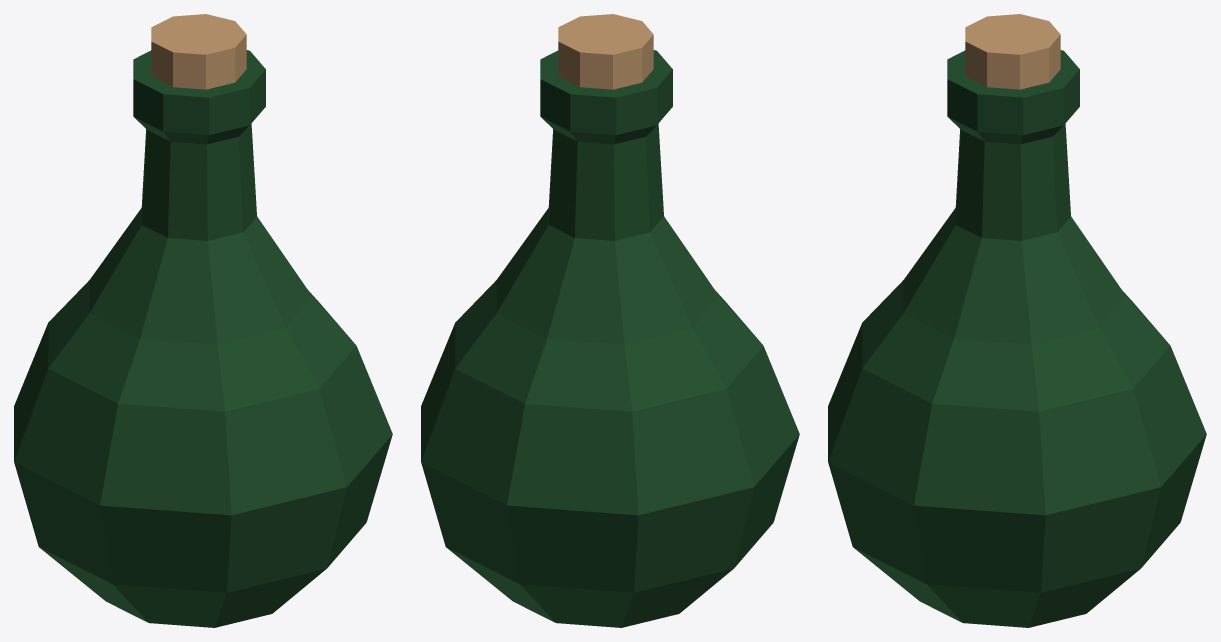
Rendered from Bottle.fbx.
The picture shows the model from 3 angles, left to right: view 1: azimuth 30°, elevation 25°; view 2: azimuth 150°, elevation 25°; view 3: azimuth 270°, elevation 25°; orthographic projection.
Parts seen in each view (by area): view 1: Bottle; view 2: Bottle; view 3: Bottle.
Part boxes in pixels (x1=…): Bottle: x1=14, y1=14, x2=392, y2=627; Bottle: x1=421, y1=14, x2=799, y2=627; Bottle: x1=828, y1=14, x2=1206, y2=627.
Size of the model in its own units: 20.37 by 33.71 by 20.06.
